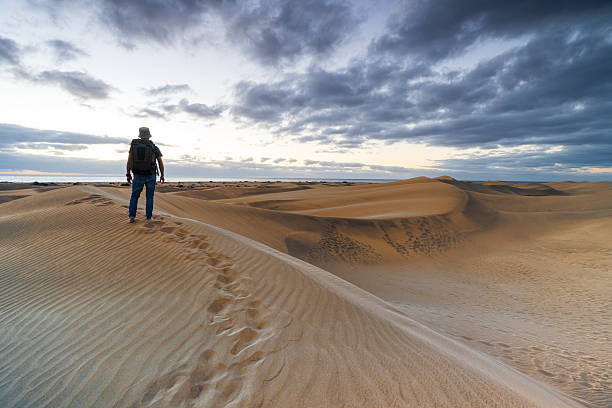human_foot_print: (132, 215, 268, 406), (137, 217, 270, 406), (137, 215, 263, 329), (137, 349, 236, 406), (207, 252, 262, 344), (140, 216, 209, 261), (142, 216, 205, 242), (230, 327, 257, 354), (65, 194, 113, 205), (207, 297, 231, 313), (143, 217, 163, 229)
